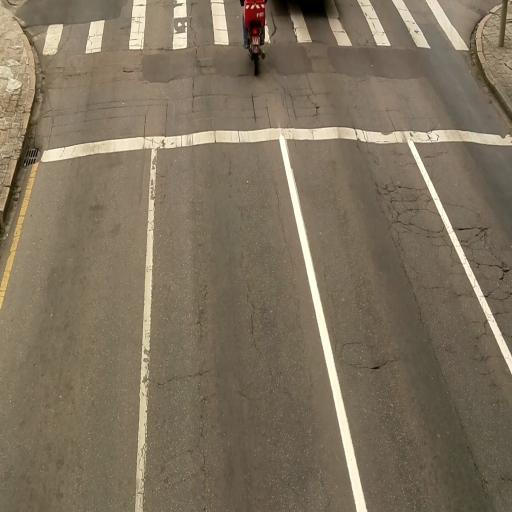motorcycle: (244, 3, 267, 76)
